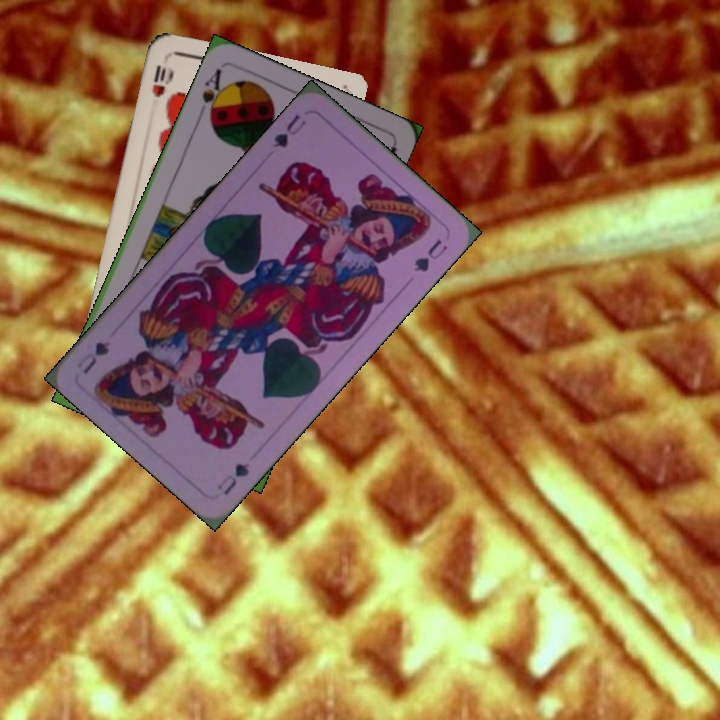GU: (268, 110, 309, 151), (213, 458, 253, 498)
H10: (147, 60, 174, 100)
SA: (198, 64, 229, 124)
